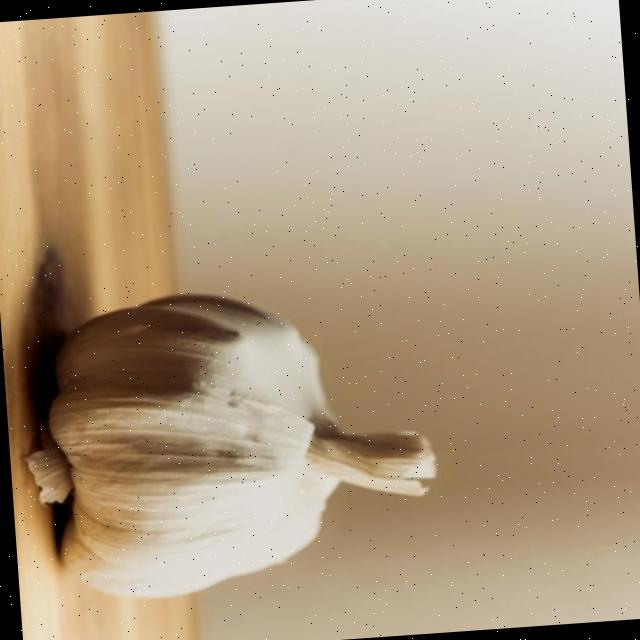garlic: (26, 294, 435, 597)
